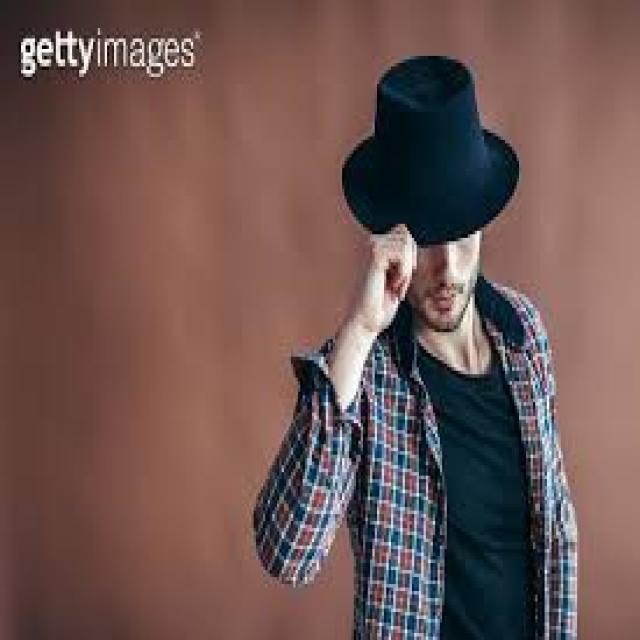hat: (342, 56, 521, 332)
